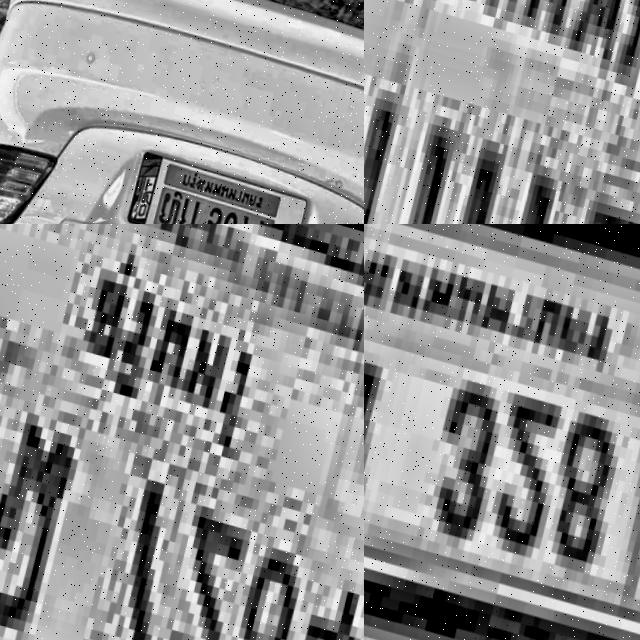license-plate: (0, 224, 364, 640), (364, 224, 640, 640), (364, 0, 640, 224), (119, 133, 321, 224)
